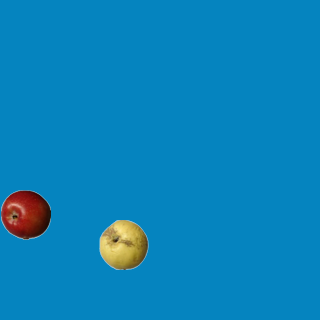Apple Braeburn: (0, 189, 50, 239)
Apple Golden 1: (98, 219, 148, 269)
